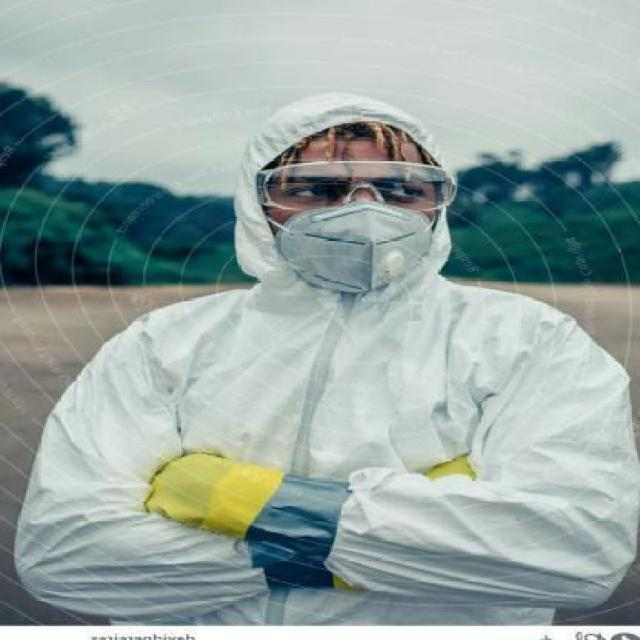face_mask: (273, 166, 435, 291)
glasses: (254, 156, 460, 216)
head_nohelmet: (248, 87, 435, 153)
person: (37, 85, 640, 603)
